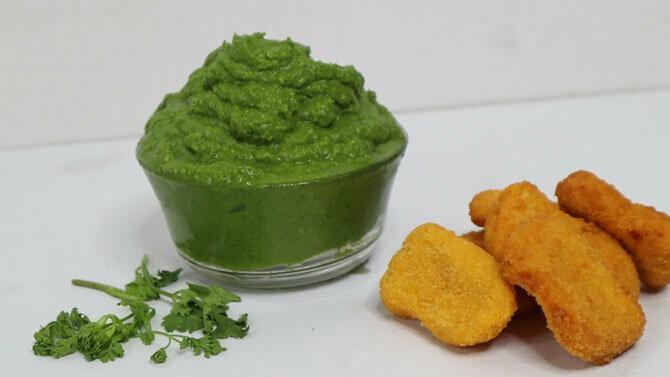GreenChutney: (137, 30, 406, 270)
